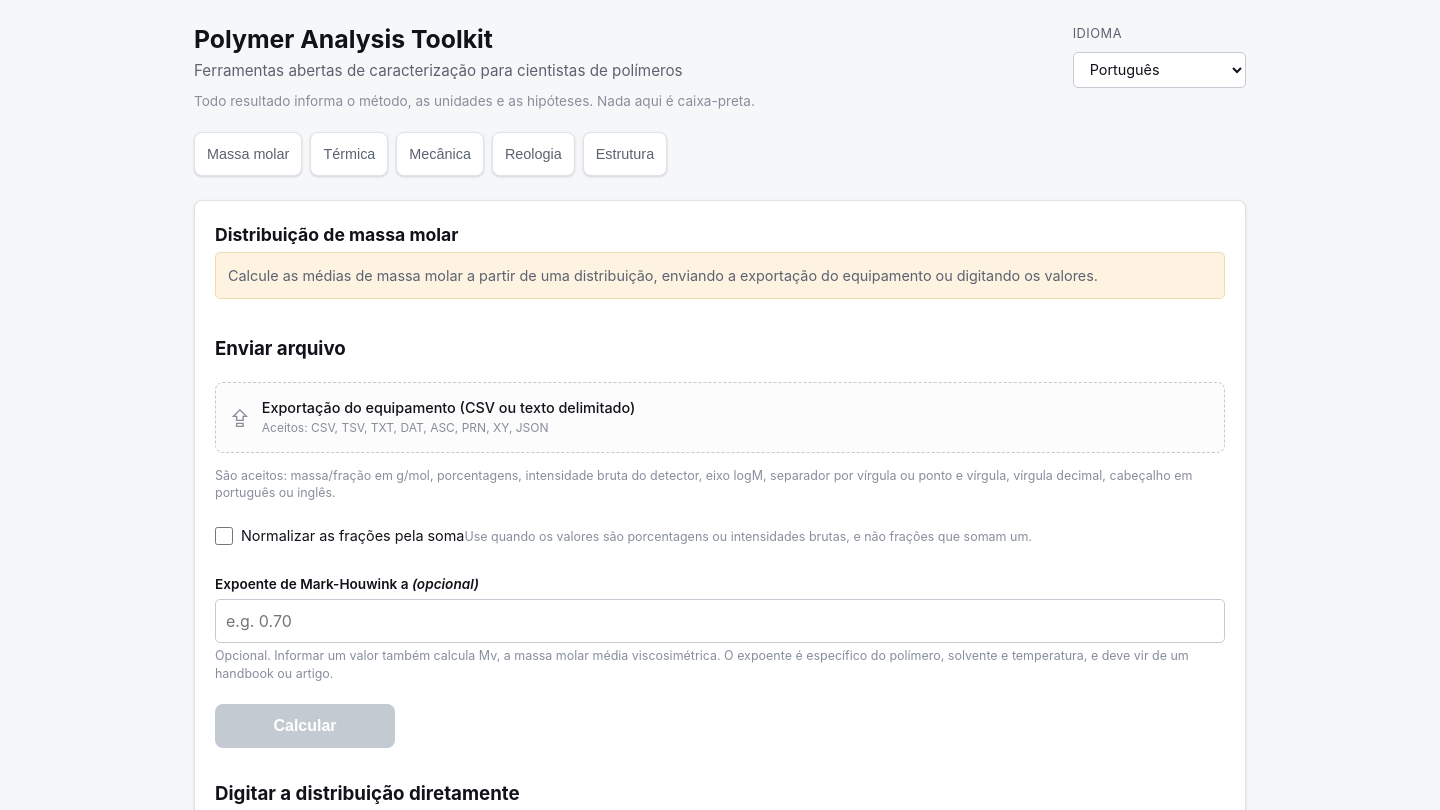
it: PAT application shell › switches the interface language to Spanish
Select "Español" in the dropdown labelled "Idioma": point(1159, 70) [1073,52,1246,88]
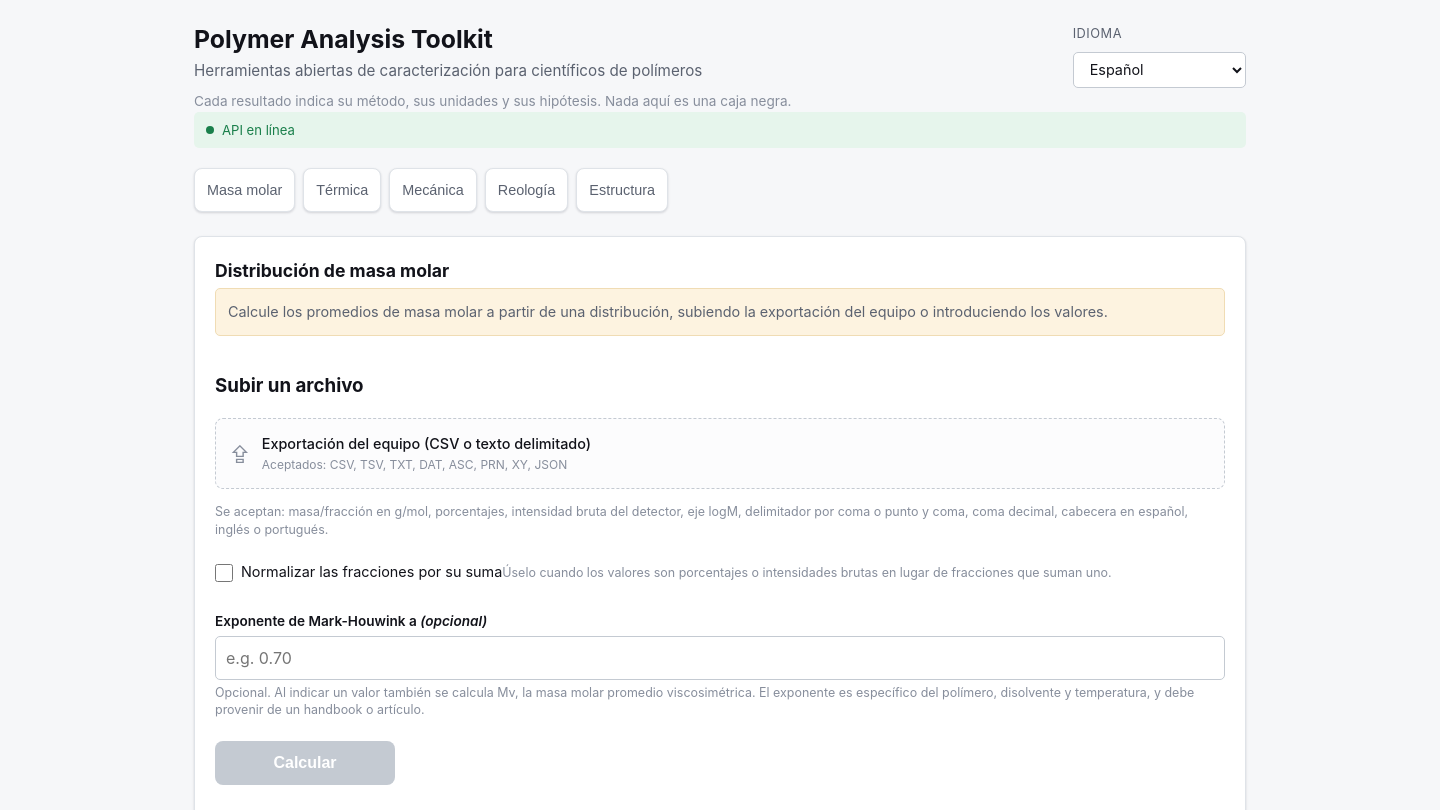
Check: the button "Masa molar" is shown, box [194,168,295,212]
